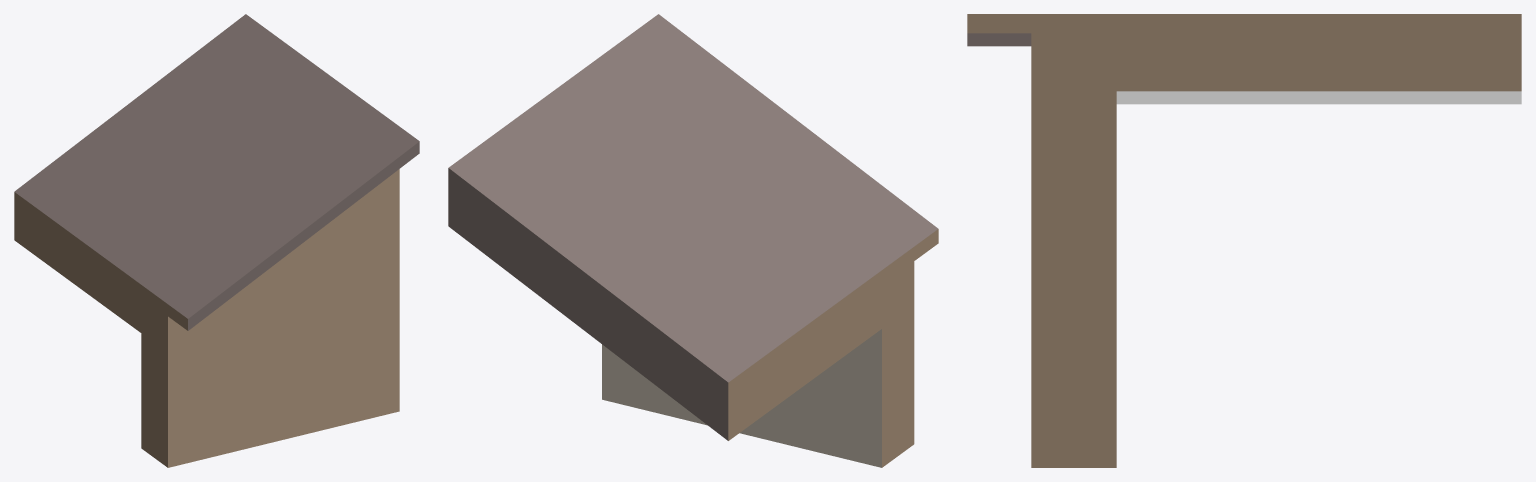
The model's file is Structure_Roof_Edge_Full.obj.
The picture shows the model from 3 angles, left to right: view 1: azimuth 30°, elevation 25°; view 2: azimuth 150°, elevation 25°; view 3: azimuth 270°, elevation 25°; orthographic projection. The views are drawn at different scales.
Visible parts, largest first — view 1: object1; view 2: object1; view 3: object1.
Boxes of the visible parts, <box> form: object1: <box>14,14,419,467</box>; object1: <box>448,14,938,467</box>; object1: <box>967,14,1521,467</box>.
Bounding box in the file's own units: 1 × 1.17 × 1.3.
